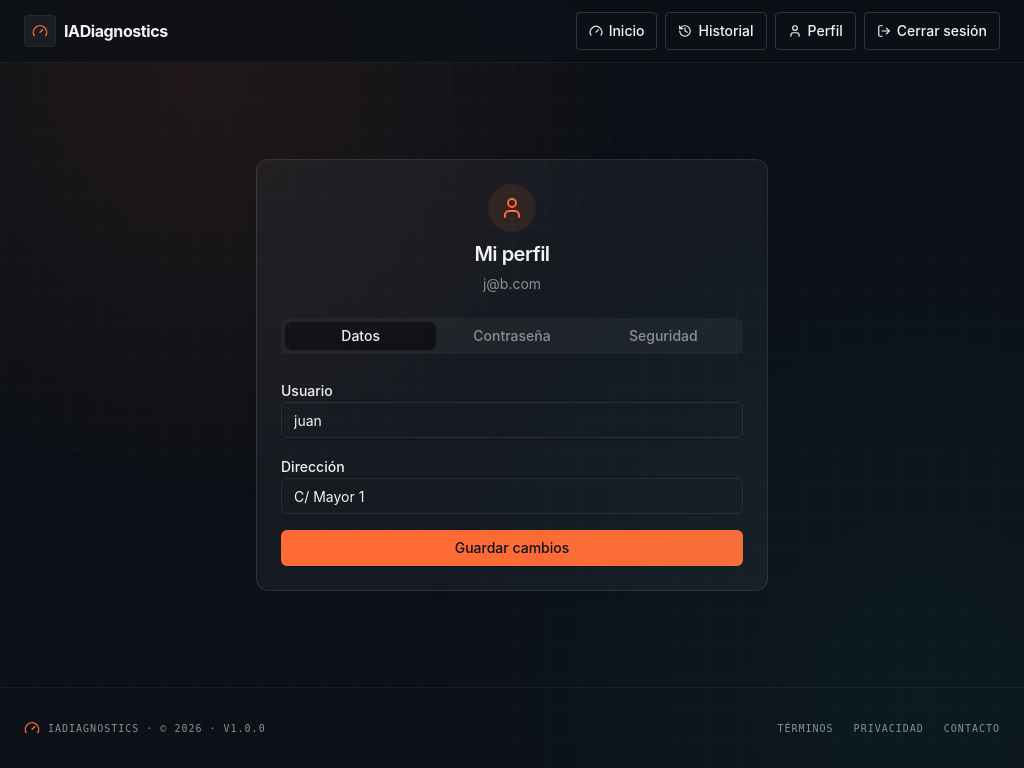
Test: ProfilePage — pestaña Seguridad › con el segundo factor activo ofrece desactivarlo
The image size is (1024, 768).
Step 1. Press the mouse on the tab "Seguridad" → (663, 336), box [588,322,739,350]
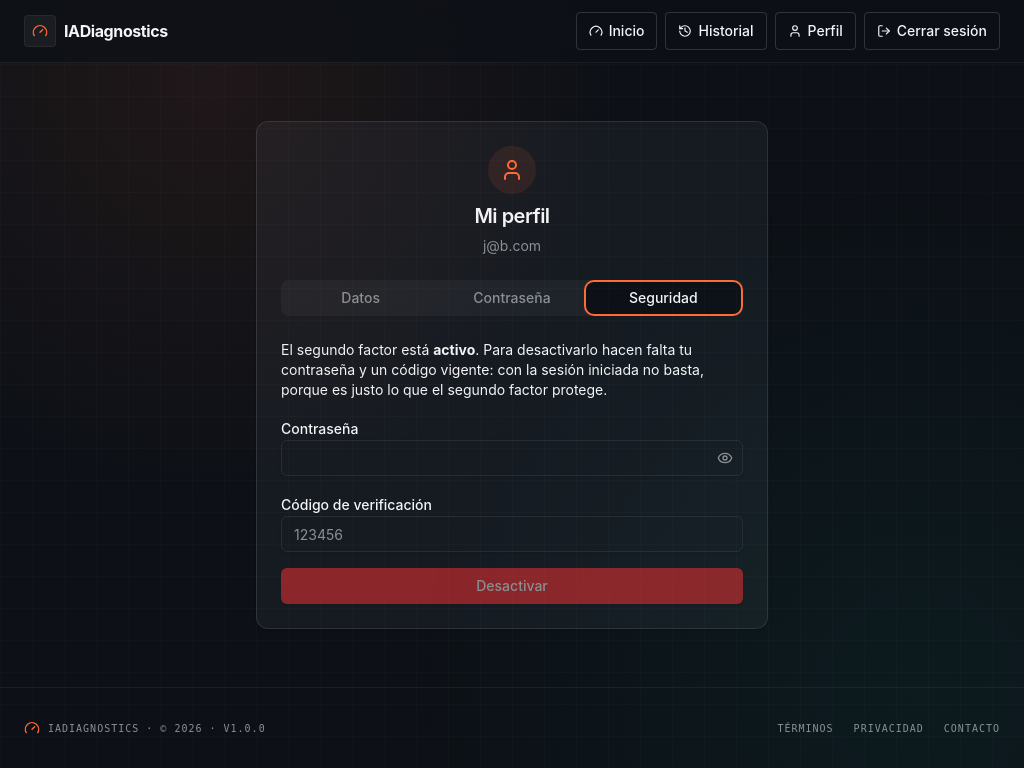
Expected: the button "Desactivar" is shown, [281,568,743,604]
